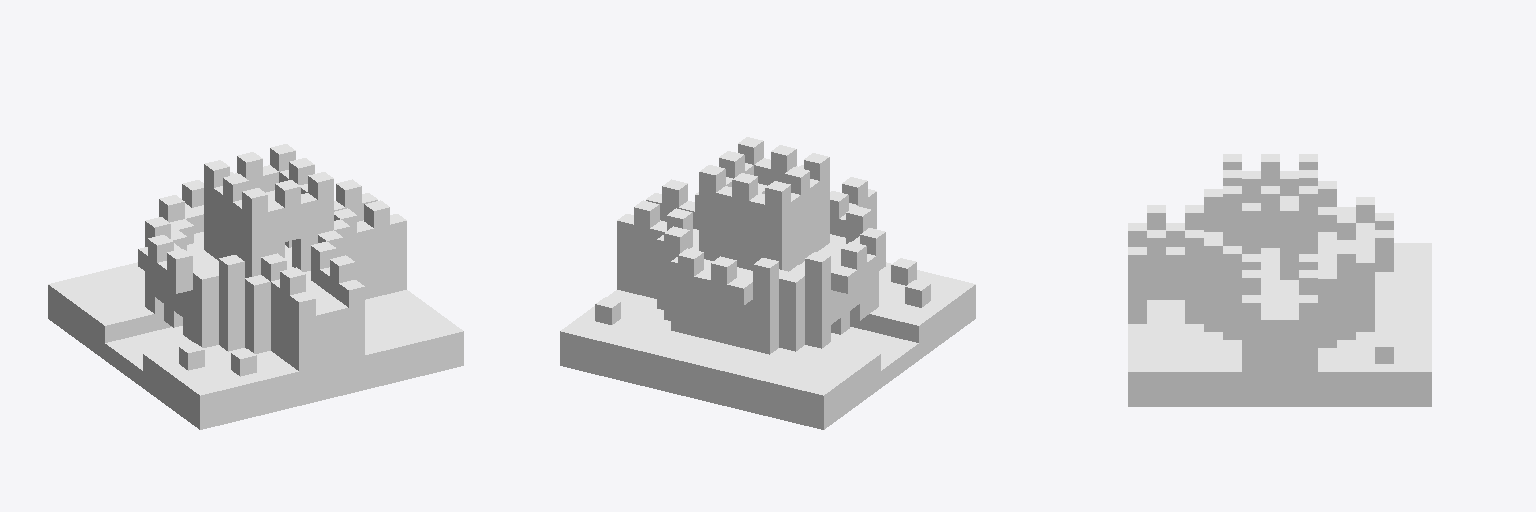
File: Castle_river_2.obj
3 renders of one model, left to right at view 1: azimuth 30°, elevation 25°; view 2: azimuth 150°, elevation 25°; view 3: azimuth 270°, elevation 25°, orthographic.
Parts seen in each view (by area): view 1: object 1; view 2: object 1; view 3: object 1.
Boxes of the visible parts, box(x1,y1,x2,y2) form: object 1: box(48, 144, 463, 429); object 1: box(560, 137, 975, 429); object 1: box(1128, 154, 1431, 406).
Bounding box in the file's own units: 1.6 × 1 × 1.6.